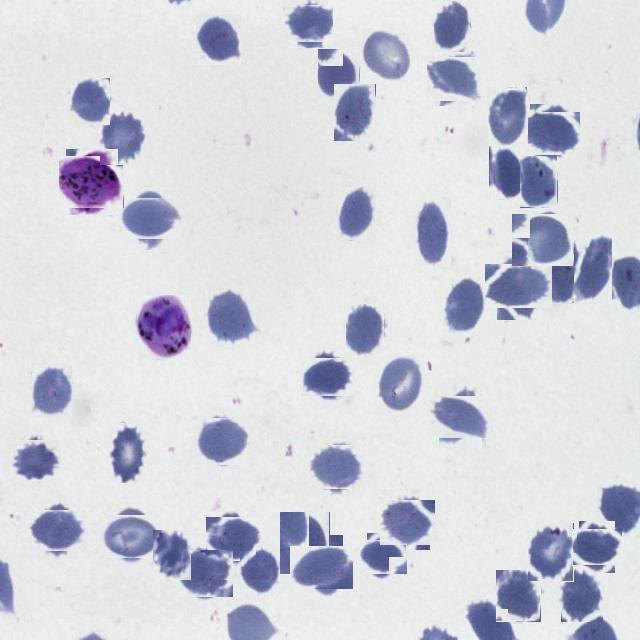gametocyte: (62, 152, 121, 211)
red blood cell: (514, 212, 572, 268), (280, 512, 330, 575), (491, 258, 547, 314), (376, 355, 424, 416), (294, 540, 348, 594), (122, 192, 176, 245), (104, 510, 157, 563), (207, 289, 256, 346), (528, 523, 574, 582), (196, 416, 248, 468), (180, 548, 232, 600), (434, 391, 486, 443), (413, 197, 451, 267), (574, 234, 612, 304), (526, 108, 577, 159), (362, 28, 410, 82), (488, 87, 529, 150), (444, 276, 487, 335), (100, 110, 146, 165), (33, 506, 83, 556), (313, 442, 363, 492), (208, 514, 258, 564), (382, 498, 432, 548), (429, 54, 479, 103), (334, 84, 376, 142), (561, 566, 603, 622), (496, 570, 541, 622), (108, 423, 147, 483), (196, 14, 241, 65), (318, 49, 360, 102), (32, 365, 72, 418), (12, 438, 58, 484), (304, 354, 350, 399), (346, 304, 385, 357), (338, 187, 376, 241), (153, 530, 192, 581), (520, 156, 558, 208), (434, 0, 471, 53), (541, 254, 580, 304), (489, 146, 525, 200), (575, 525, 619, 569), (70, 78, 110, 125), (240, 546, 279, 594), (288, 2, 330, 46), (364, 536, 404, 577)
trophozoite: (137, 295, 192, 360)
